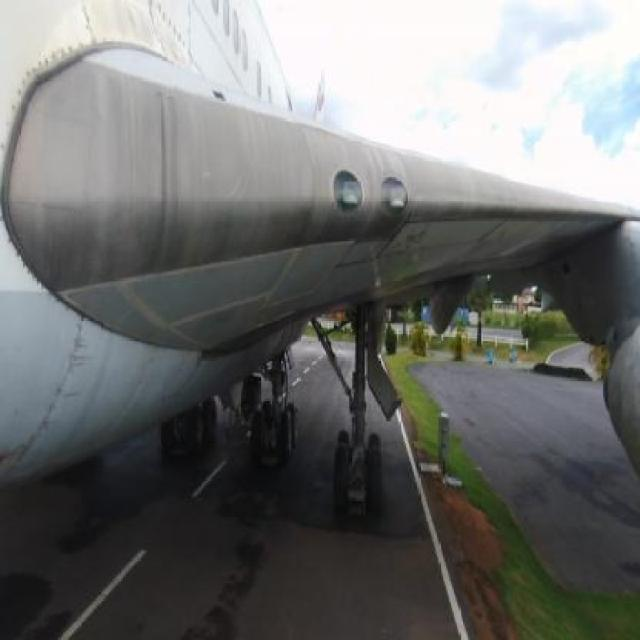Scartch: (398, 215, 450, 262)
